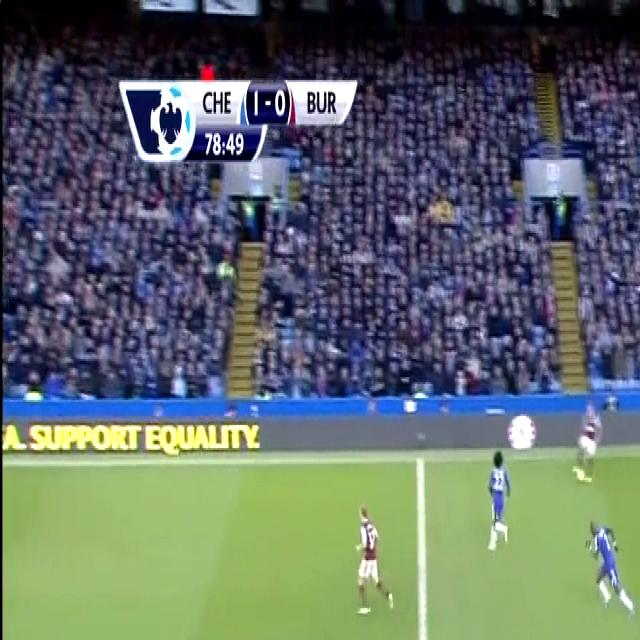ball: (572, 461, 592, 492)
soccer-player: (574, 510, 640, 628), (350, 492, 405, 628), (473, 434, 513, 559), (567, 390, 605, 490), (165, 624, 217, 640)
